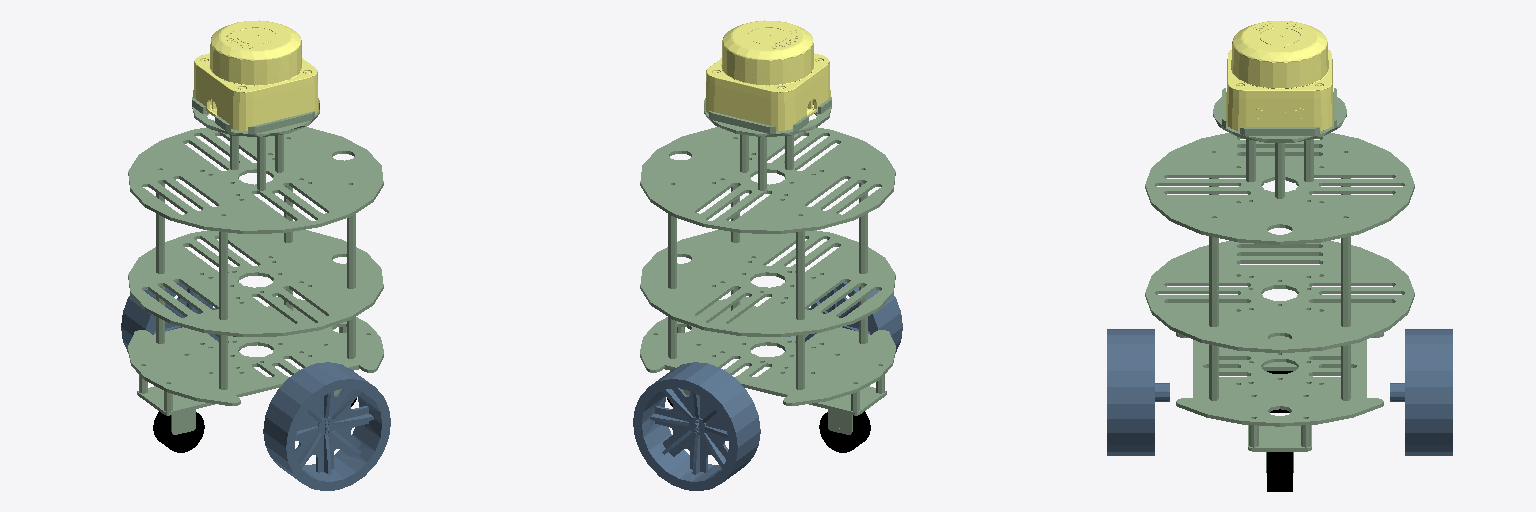
robot.urdf — my_robot:
<?xml version="1.0" ?>
<!-- =================================================================================== -->
<!-- |    This document was autogenerated by xacro from my_robot_base_mesh_copy.xacro  | -->
<!-- |    EDITING THIS FILE BY HAND IS NOT RECOMMENDED                                 | -->
<!-- =================================================================================== -->
<robot name= "my_robot">
  <material name="orange">
    <color rgba="1 0.647 0.0 1"/>
  </material>
  <material name="grey">
    <color rgba="0.5 0.5 0.5 1"/>
  </material>
  <material name="white">
    <color rgba="1 1 1 1"/>
  </material>
  <material name="red">
    <color rgba="1 0.0 0.0 1"/>
  </material>
  <material name="black">
    <color rgba="0.0 0.0 0.0 1"/>
  </material>
  <material name="green">
    <color rgba="0.0 0.1 0.0 1"/>
  </material>
  <material name="grünlichesGrau">
    <color rgba="0.6 0.7 0.6 1"/>
  </material>
  <material name="warmesRot">
    <color rgba="0.8 0.1 0.1 1"/>
  </material>
  <material name="grauBlau">
    <color rgba="0.4 0.5 0.6 1"/>
  </material>
  <material name="pastelligesZitronengelb">
    <color rgba="1.0 1.0 0.6 1"/>
  </material>
  <gazebo reference="base_link">
    <material>Gazebo/DarkGrey</material>
  </gazebo>
  <gazebo reference="right_wheel_link">
    <material>Gazebo/Orange</material>
    <m1 value="10.0"/>
    <m2 value="10.0"/>
  </gazebo>
  <gazebo reference="left_wheel_link">
    <material>Gazebo/Orange</material>
    <m1 value="10.0"/>
    <m2 value="10.0"/>
  </gazebo>
  <gazebo reference="front_caster_wheel_link">
    <material>Gazebo/FlatBlack</material>
    <m1 value="10.0"/>
    <m2 value="10.0"/>
  </gazebo>
  <gazebo reference="rear_caster_wheel_link">
    <material>Gazebo/FlatBlack</material>
    <m1 value="10.0"/>
    <m2 value="10.0"/>
  </gazebo>
  <!-- base_footprint -->
  <link name="base_footprint"/>
  <!-- base_link -->
  <link name="base_link">
    <visual>
      <geometry>
        <mesh filename="package://my_robot_description/models/meshes/my_robot_base.stl" scale="0.001 0.001 0.001"/>
      </geometry>
      <material name="grünlichesGrau"/>
      <origin rpy="1.5707963267948966 0.0 1.5707963267948966" xyz="0.0 0.0 0.1375"/>
    </visual>
    <collision>
      <geometry>
        <cylinder length="0.1855" radius="0.07"/>
      </geometry>
      <origin rpy="0.0 0.0 0.0" xyz="0.0 0.0 0.09275"/>
    </collision>
    <inertial>
      <origin rpy="0.0 0.0 0.0" xyz="0.0 0.0 0.09325"/>
      <mass value="1000.0"/>
      <inertia ixx="4.500854166666666" ixy="0.0" ixz="0.0" iyy="4.500854166666666" iyz="0.0" izz="3.266666666666667"/>
    </inertial>
  </link>
  <!-- footprint_base_joint -->
  <joint name="footprint_base_joint" type="fixed">
    <parent link="base_footprint"/>
    <child link="base_link"/>
    <origin rpy="0 0 0" xyz="0 0 0.0125"/>
  </joint>
  <link name="right_wheel_link">
    <visual>
      <geometry>
        <mesh filename="package://my_robot_description/models/meshes/wheel.stl" scale="0.001 0.001 0.001"/>
      </geometry>
      <material name="grauBlau"/>
      <origin rpy="1.5707963267948966  0.0 0.0" xyz="0.0 0.0 -0.0125"/>
    </visual>
    <collision>
      <geometry>
        <sphere radius="0.033"/>
      </geometry>
      <origin rpy="0.0 0.0 0.0" xyz="0.0 0.0 0.0"/>
    </collision>
    <inertial>
      <origin rpy="0.0 0.0 0.0" xyz="0.0 0.0 0.0"/>
      <mass value="500.0"/>
      <inertia ixx="0.16216666666666668" ixy="0.0" ixz="0.0" iyx="0.0" iyy="0.16216666666666668" iyz="0.0" izx="0.0" izy="0.0" izz="0.27225000000000005"/>
    </inertial>
  </link>
  <link name="left_wheel_link">
    <visual>
      <geometry>
        <mesh filename="package://my_robot_description/models/meshes/wheel.stl" scale="0.001 0.001 0.001"/>
      </geometry>
      <material name="grauBlau"/>
      <origin rpy="1.5707963267948966  0.0 0.0" xyz="0.0 0.0 -0.0125"/>
    </visual>
    <collision>
      <geometry>
        <sphere radius="0.033"/>
      </geometry>
      <origin rpy="0.0 0.0 0.0" xyz="0.0 0.0 0.0"/>
    </collision>
    <inertial>
      <origin rpy="0.0 0.0 0.0" xyz="0.0 0.0 0.0"/>
      <mass value="500.0"/>
      <inertia ixx="0.16216666666666668" ixy="0.0" ixz="0.0" iyx="0.0" iyy="0.16216666666666668" iyz="0.0" izx="0.0" izy="0.0" izz="0.27225000000000005"/>
    </inertial>
  </link>
  <!-- base_left_wheel_joint -->
  <joint name="base_left_wheel_joint" type="continuous">
    <parent link="base_link"/>
    <child link="left_wheel_link"/>
    <origin rpy="-1.5707963267948966 3.141592653589793 3.141592653589793" xyz="0.0 0.0775 0.0205"/>
    <axis xyz="0 0 -1"/>
  </joint>
  <!-- base_right_wheel_joint -->
  <joint name="base_right_wheel_joint" type="continuous">
    <parent link="base_link"/>
    <child link="right_wheel_link"/>
    <origin rpy="-1.5707963267948966 0.0 0.0" xyz="0.0 -0.0775 0.0205"/>
    <axis xyz="0 0 1"/>
  </joint>
  <link name="front_caster_wheel_link">
    <visual>
      <geometry>
        <mesh filename="package://my_robot_description/models/meshes/caster_wheel.stl" scale="0.001 0.001 0.001"/>
      </geometry>
      <material name="black"/>
      <origin rpy="0.0 0.0 -1.5707963267948966" xyz="0.0 0.0065 0.0"/>
    </visual>
    <collision>
      <geometry>
        <sphere radius="0.0125"/>
      </geometry>
      <material name="black"/>
      <origin rpy="0.0 0.0 0.0" xyz="0.0 0.0 0.0"/>
    </collision>
    <inertial>
      <origin rpy="0.0 0.0 0.0" xyz="0.0 0.0 0.0"/>
      <mass value="250.0"/>
      <inertia ixx="0.013286458333333334" ixy="0.0" ixz="0.0" iyx="0.0" iyy="0.013286458333333334" iyz="0.0" izx="0.0" izy="0.0" izz="0.019531250000000003"/>
    </inertial>
  </link>
  <link name="rear_caster_wheel_link">
    <visual>
      <geometry>
        <mesh filename="package://my_robot_description/models/meshes/caster_wheel.stl" scale="0.001 0.001 0.001"/>
      </geometry>
      <material name="black"/>
      <origin rpy="0.0 0.0 -1.5707963267948966" xyz="0.0 0.0065 0.0"/>
    </visual>
    <collision>
      <geometry>
        <sphere radius="0.0125"/>
      </geometry>
      <material name="black"/>
      <origin rpy="0.0 0.0 0.0" xyz="0.0 0.0 0.0"/>
    </collision>
    <inertial>
      <origin rpy="0.0 0.0 0.0" xyz="0.0 0.0 0.0"/>
      <mass value="250.0"/>
      <inertia ixx="0.013286458333333334" ixy="0.0" ixz="0.0" iyx="0.0" iyy="0.013286458333333334" iyz="0.0" izx="0.0" izy="0.0" izz="0.019531250000000003"/>
    </inertial>
  </link>
  <!--base_front_caster_wheel_joint-->
  <joint name="base_front_caster_wheel_joint" type="fixed">
    <parent link="base_link"/>
    <child link="front_caster_wheel_link"/>
    <origin rpy="0.0 0.0 0.0" xyz="0.0485 0.0 0.00017"/>
  </joint>
  <!--base_rear_caster_wheel_joint-->
  <joint name="base_rear_caster_wheel_joint" type="fixed">
    <parent link="base_link"/>
    <child link="rear_caster_wheel_link"/>
    <origin rpy="0.0 0.0 0.0" xyz="-0.0485 0.0 0.00017"/>
  </joint>
  <!-- lidar_link -->
  <link name="laser">
    <visual>
      <geometry>
        <mesh filename="package://my_robot_description/models/meshes/c1m1_appearance_v2_20230926_3d_.stl" scale="0.001 0.001 0.001"/>
      </geometry>
      <material name="pastelligesZitronengelb"/>
      <origin rpy="0.0 0.0 0.0" xyz="0.0 0.0 0.0"/>
    </visual>
    <collision>
      <geometry>
        <cylinder length="0.0413" radius="0.0348"/>
      </geometry>
      <origin rpy="0.0 0.0 0.0" xyz="0.0 0.0 0.02065"/>
    </collision>
    <inertial>
      <origin rpy="0.0 0.0 0.0" xyz="0.0 0.0 0.02065"/>
      <mass value="0.1"/>
      <inertia ixx="3.219175e-05" ixy="0.0" ixz="0.0" iyx="0.0" iyy="3.219175e-05" iyz="0.0" izx="0.0" izy="0.0" izz="3.8642e-05"/>
    </inertial>
  </link>
  <!-- base_laser_joint -->
  <joint name="base_laser_joint" type="fixed">
    <parent link="base_link"/>
    <child link="laser"/>
    <origin rpy="0 0 0" xyz="0 0 0.183"/>
  </joint>
  <!-- imu_link -->
  <link name="bno055">
    <visual>
      <geometry>
        <mesh filename="package://my_robot_description/models/meshes/adafruit_bno055_stemma_qt_1.stl" scale="0.001 0.001 0.001"/>
      </geometry>
      <material name="warmesRot"/>
      <origin rpy="0.0 0.0 0.0" xyz="0.0 0.0 0.00075"/>
    </visual>
    <collision>
      <geometry>
        <box size="0.02 0.025 0.0045000000000000005"/>
      </geometry>
      <origin rpy="0.0 0.0 1.5707963267948966" xyz="0.0 0.0 0.003"/>
    </collision>
    <inertial>
      <origin rpy="0.0 0.0 0.0" xyz="0.0 0.0 0.00075"/>
      <mass value="0.05"/>
      <inertia ixx="2.6135416666666672e-06" ixy="0.0" ixz="0.0" iyy="4.270833333333333e-06" iyz="0.0" izz="1.6760416666666667e-06"/>
    </inertial>
  </link>
  <!-- base_imu_joint -->
  <joint name="base_imu_joint" type="fixed">
    <parent link="base_link"/>
    <child link="bno055"/>
    <origin rpy="0 0 0.0" xyz="0 0 0.17300000000000001"/>
  </joint>
</robot>

--- Render facts (derived) ---
3 views of the same robot in one strip: view 1: azimuth 30°, elevation 25°; view 2: azimuth 150°, elevation 25°; view 3: azimuth 270°, elevation 25° (orthographic).
Robot: my_robot — 8 links, 7 joints (2 continuous, 5 fixed); root link base_footprint; default pose: all joints at 0.
Visible links, largest first — view 1: base_link, right_wheel_link, laser, left_wheel_link, rear_caster_wheel_link; view 2: base_link, left_wheel_link, laser, right_wheel_link, rear_caster_wheel_link; view 3: base_link, laser, right_wheel_link, left_wheel_link, front_caster_wheel_link.
Link boxes in pixels (<box>): base_link: <box>128,97,383,434</box>; right_wheel_link: <box>263,362,390,490</box>; laser: <box>193,20,318,130</box>; left_wheel_link: <box>121,282,240,351</box>; rear_caster_wheel_link: <box>153,411,204,452</box>; base_link: <box>640,97,895,434</box>; left_wheel_link: <box>633,362,760,490</box>; laser: <box>705,20,830,130</box>; right_wheel_link: <box>783,282,902,351</box>; rear_caster_wheel_link: <box>819,411,870,452</box>; base_link: <box>1145,88,1414,472</box>; laser: <box>1226,21,1333,130</box>; right_wheel_link: <box>1107,329,1169,455</box>; left_wheel_link: <box>1390,329,1452,455</box>; front_caster_wheel_link: <box>1267,452,1292,491</box>.
Bounding box of the posed robot: 0.14 × 0.18 × 0.2368 m (x, y, z).
Meshes: 5 distinct files referenced, 7 mesh visuals loaded (5 binary STL).